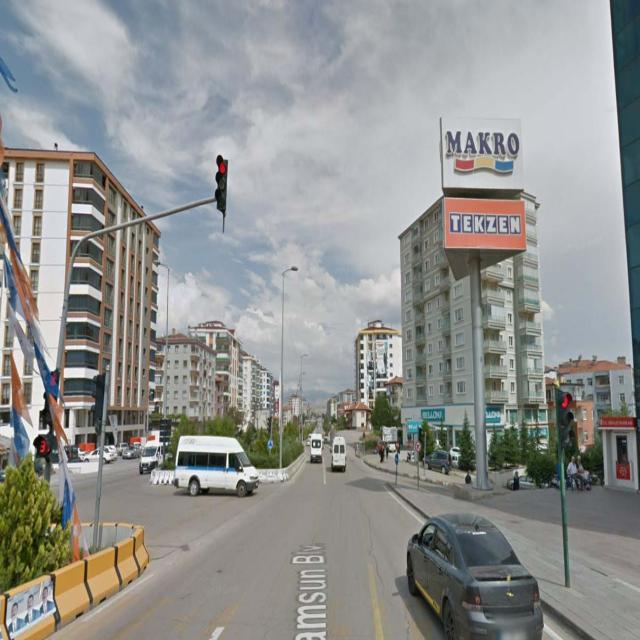kirmizi: (558, 388, 574, 444), (217, 156, 226, 209)
